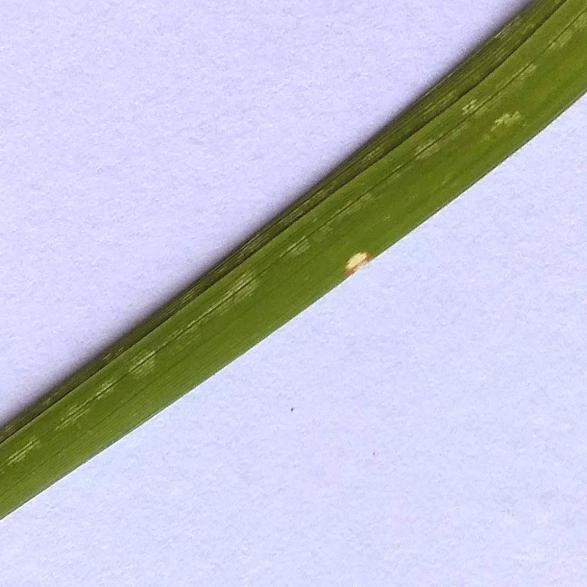Leaf_smut: (333, 229, 375, 284)
